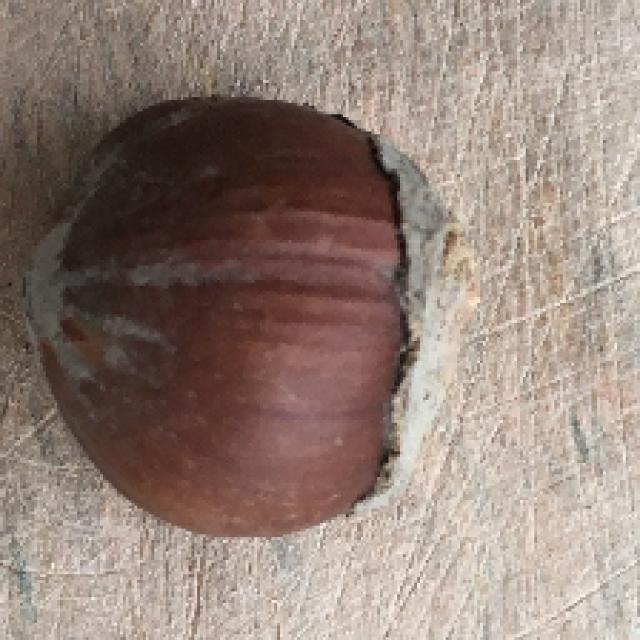damagedHazelnut: (22, 87, 486, 549)
